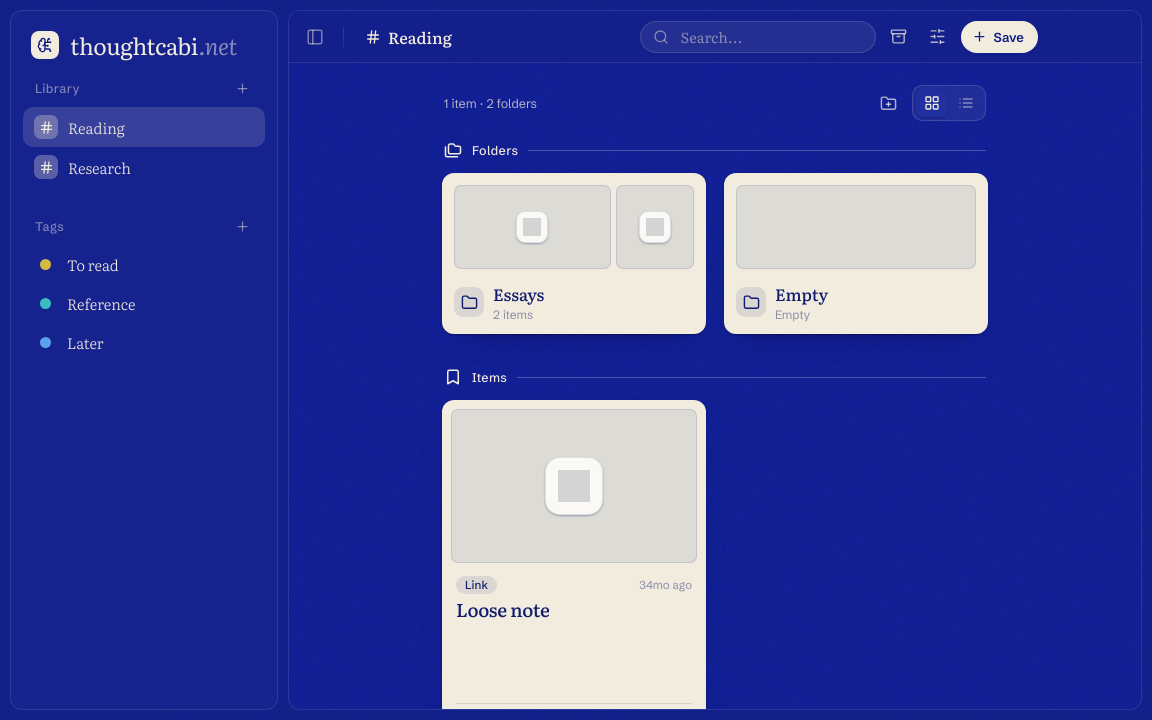
it: App › remembers the row view
The width and height of the screenshot is (1152, 720).
Click the button named "Row view": click(966, 103) [950,89,982,117]
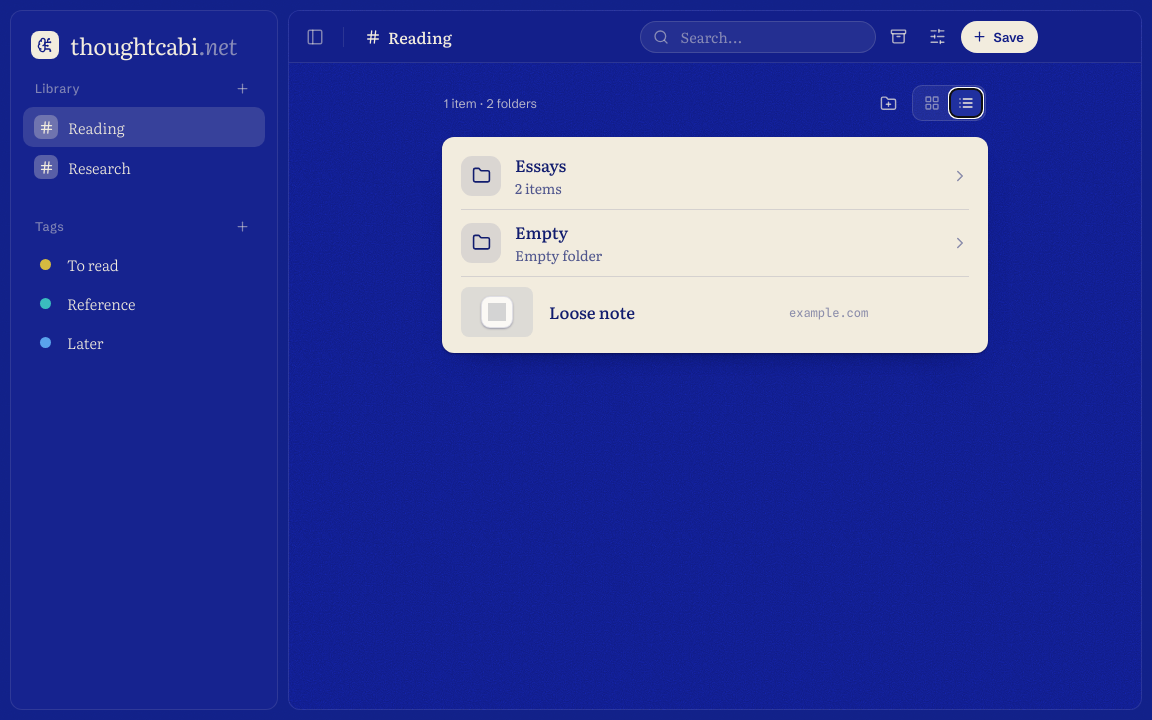
Now the element with class "notes-list" is shown, box [442,137,988,353]
